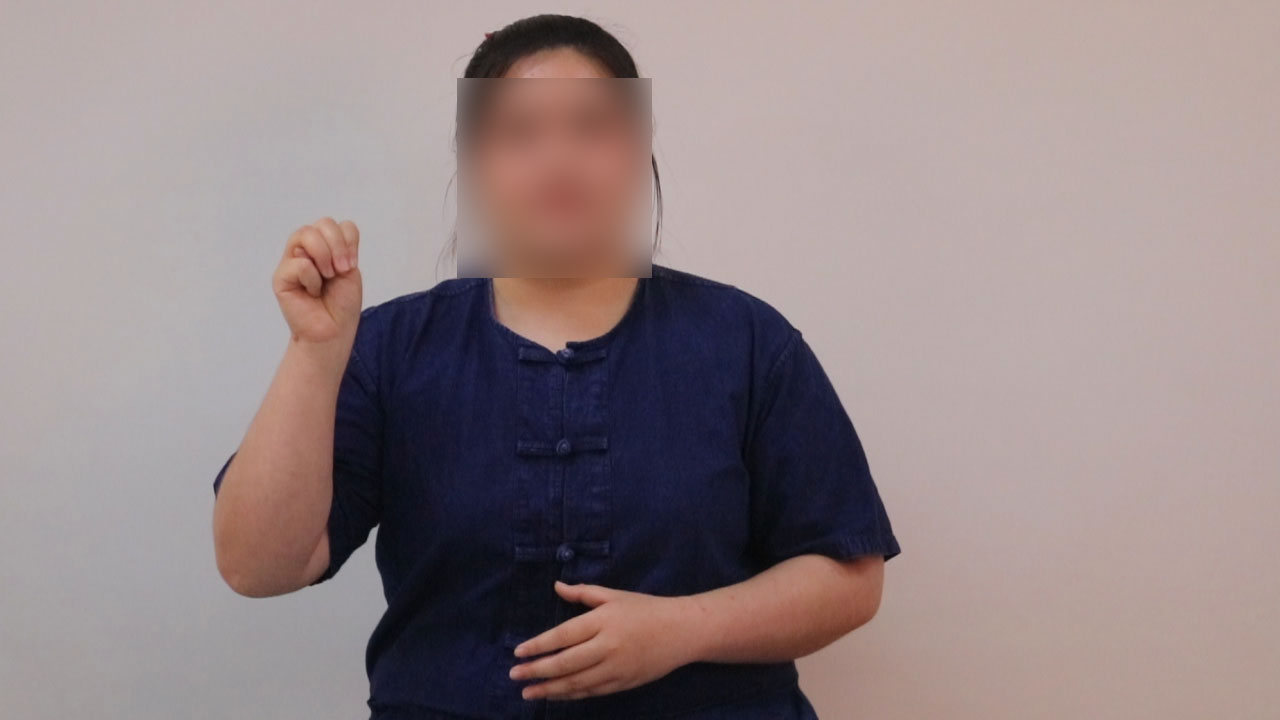mor: (270, 200, 372, 363)
